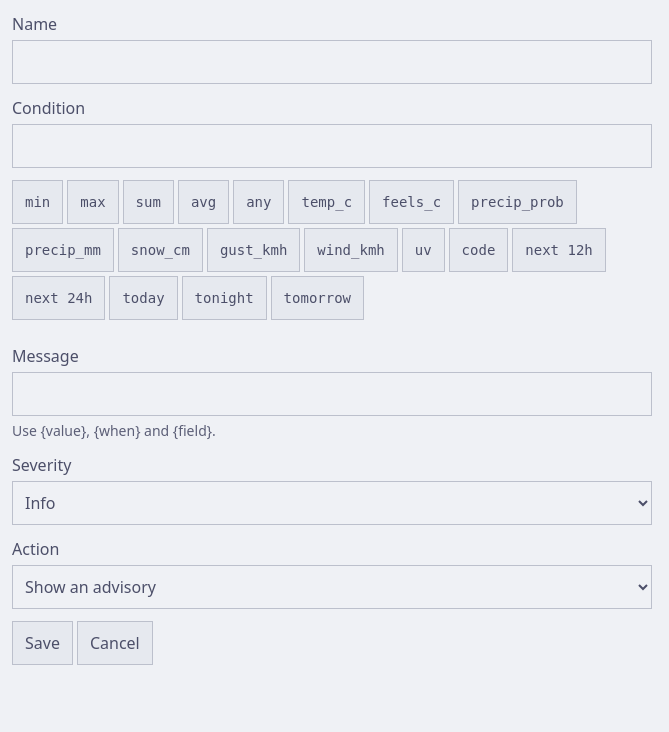
Test: rule editor › shows the preview for a valid rule
In the field named "condition": coordinates (332, 146) [12,124,652,168], type "min(temp_c, tonight) <= 0"
Wait 300 ms
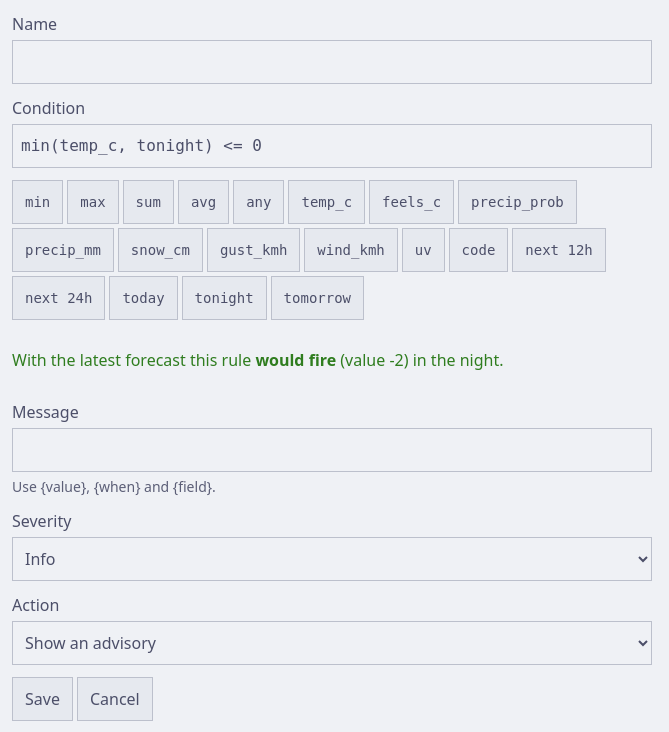
Check: the element with test id "rule-preview" shows "would fire", box [255,349,336,371]
